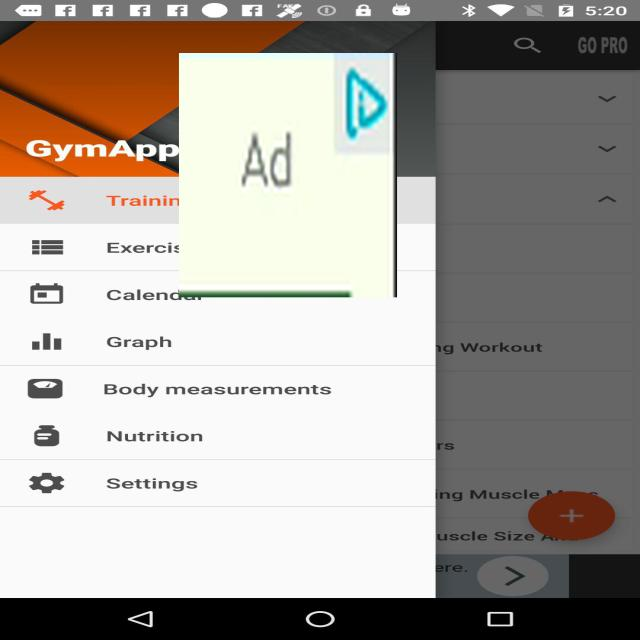sneaking: (179, 53, 397, 297)
